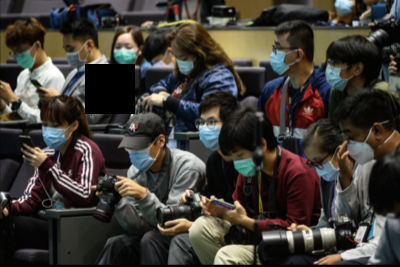with_mask: (343, 125, 374, 164), (122, 141, 158, 171), (196, 113, 223, 151), (324, 56, 353, 91), (307, 152, 340, 182), (42, 115, 71, 149), (270, 37, 295, 75), (230, 145, 259, 177), (112, 38, 140, 65), (63, 40, 89, 66), (171, 49, 196, 76), (9, 46, 37, 69), (150, 52, 175, 70)
